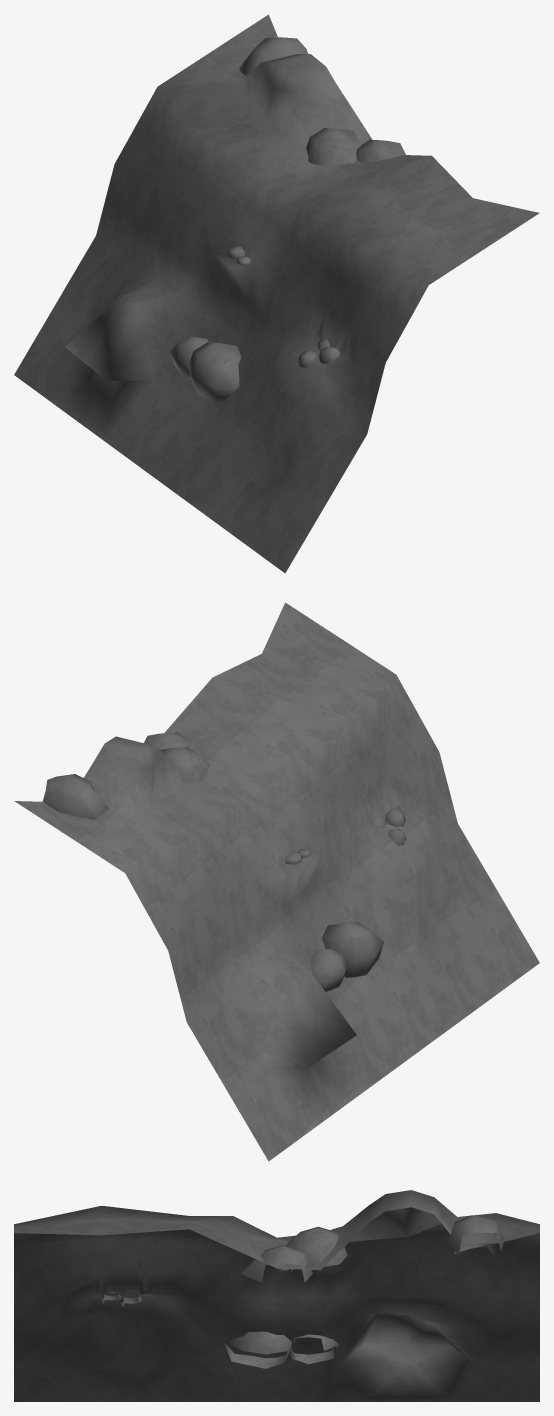
File: gora1.fbx
The picture shows the model from 3 angles, top to bottom: view 1: azimuth 30°, elevation 25°; view 2: azimuth 150°, elevation 25°; view 3: azimuth 270°, elevation 25°; orthographic projection. The views are drawn at different scales.
Parts seen in each view (by area): view 1: Plane.025, Cube.002, Cube.004, Cube.006, Cube.005, Cube.003; view 2: Plane.025, Cube.002, Cube.006, Cube.003, Cube.004; view 3: Plane.025, Cube.002, Cube.004, Cube.006, Cube.005, Cube.003.
Boxes of the visible parts, x1,y1,x2,y2 form: Plane.025: [14, 14, 539, 573]; Cube.002: [188, 342, 241, 402]; Cube.004: [306, 128, 360, 167]; Cube.006: [239, 37, 307, 75]; Cube.005: [356, 139, 405, 163]; Cube.003: [169, 337, 208, 376]; Plane.025: [14, 602, 539, 1161]; Cube.002: [322, 922, 383, 977]; Cube.006: [42, 774, 109, 832]; Cube.003: [311, 948, 347, 991]; Cube.004: [160, 747, 210, 782]; Plane.025: [14, 1190, 539, 1401]; Cube.002: [223, 1331, 291, 1368]; Cube.004: [286, 1226, 347, 1266]; Cube.006: [447, 1215, 504, 1260]; Cube.005: [241, 1245, 312, 1282]; Cube.003: [290, 1334, 338, 1364].
Bounding box in the file's own units: 2457 × 2867 × 4500.
